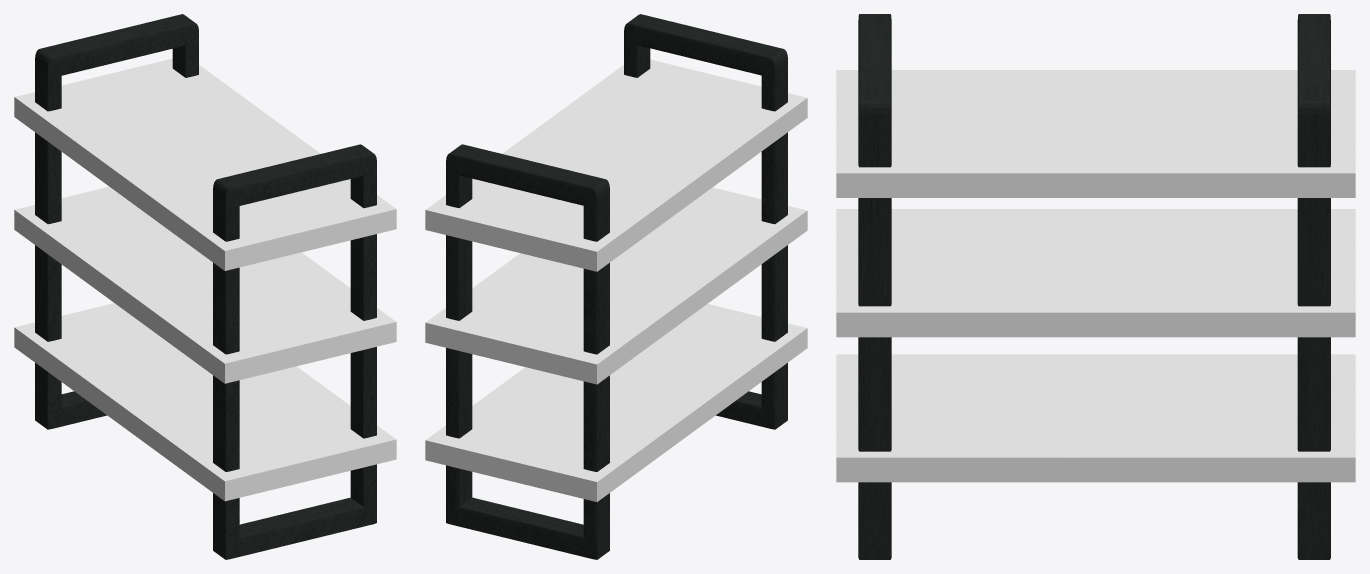
3 views of the same model, side by side, from view 1: azimuth 30°, elevation 25°; view 2: azimuth 150°, elevation 25°; view 3: azimuth 270°, elevation 25° (orthographic). The views are drawn at different scales.
Visible parts, largest first — view 1: 오른쪽다리; view 2: 오른쪽다리; view 3: 오른쪽다리.
Part boxes in pixels (<box>): 오른쪽다리: <box>14,14,396,559</box>; 오른쪽다리: <box>425,14,807,559</box>; 오른쪽다리: <box>836,14,1355,559</box>.
Bounding box in the file's own units: 70.71 × 146 × 150.
2 materials, 2 textured.
